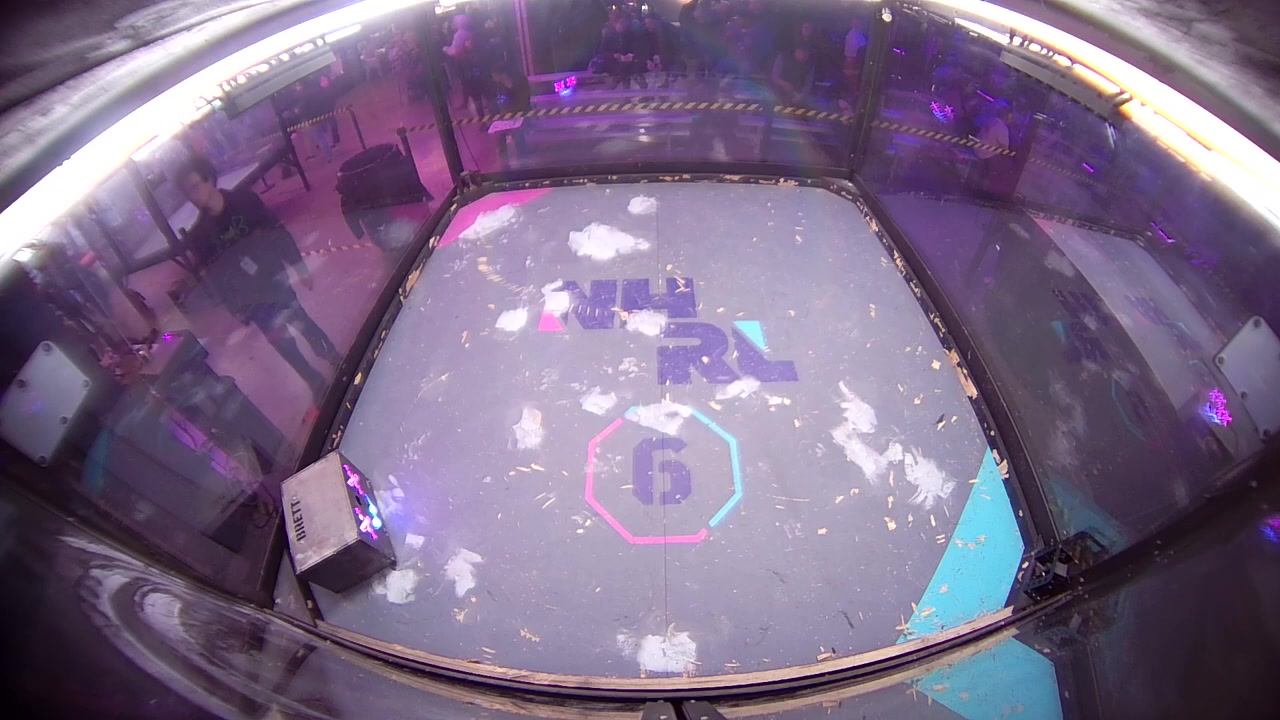housebot: (282, 452, 398, 594)
